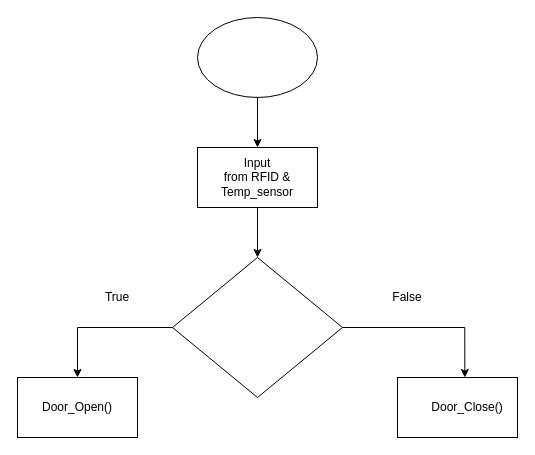
The diagram is 535 pixels wide and 455 high, and some of its shapes have lost their labels. Here are the shapes that lost their labels. From the top down, the box of each, then its label:
(196, 16, 318, 98): Start
(172, 256, 342, 398): Comparing flags from RFID and Temp_sensor
